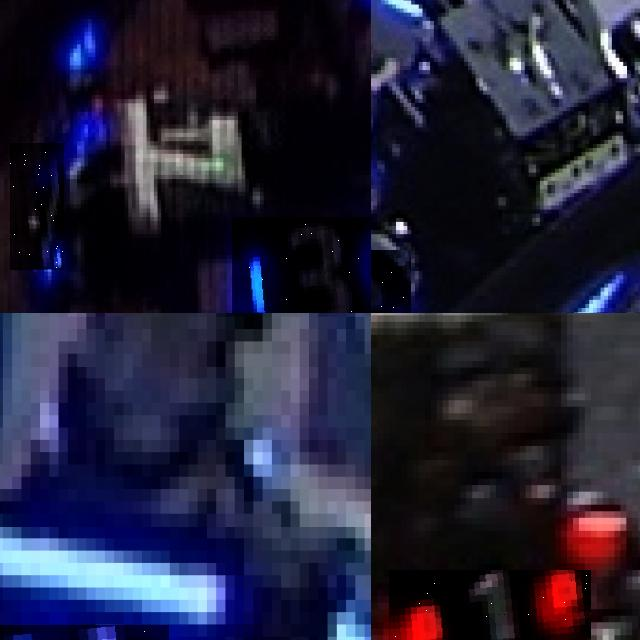B3: (232, 216, 371, 313), (10, 143, 64, 270)
R1: (389, 570, 590, 640)
